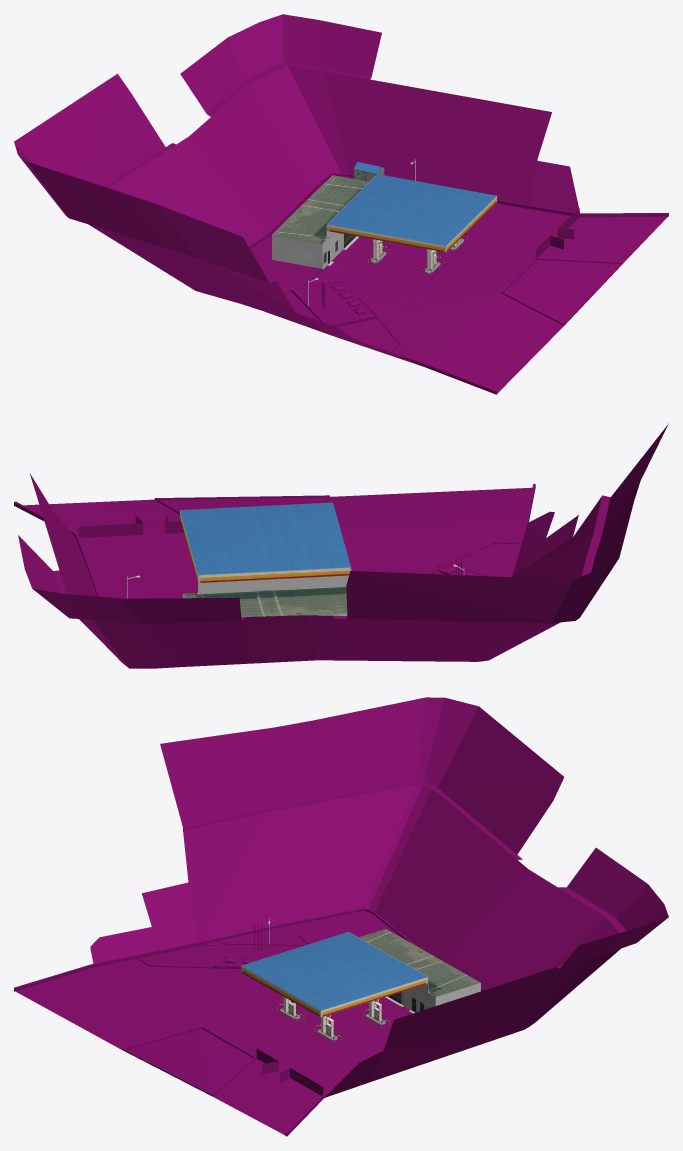
Rendered from modle1.obj.
3 renders of one model, top to bottom at view 1: azimuth 30°, elevation 25°; view 2: azimuth 150°, elevation 25°; view 3: azimuth 270°, elevation 25°, orthographic. The views are drawn at different scales.
Visible parts, largest first — view 1: dantazijyz_HBLKHG_DM001, dantazijyz_HBLKHG_JZ001; view 2: dantazijyz_HBLKHG_DM001, dantazijyz_HBLKHG_JZ001; view 3: dantazijyz_HBLKHG_DM001, dantazijyz_HBLKHG_JZ001.
Part boxes in pixels (bbox=[...]): dantazijyz_HBLKHG_DM001: bbox=[14, 14, 668, 394]; dantazijyz_HBLKHG_JZ001: bbox=[271, 174, 497, 274]; dantazijyz_HBLKHG_DM001: bbox=[14, 423, 668, 668]; dantazijyz_HBLKHG_JZ001: bbox=[180, 502, 351, 617]; dantazijyz_HBLKHG_DM001: bbox=[14, 697, 668, 1136]; dantazijyz_HBLKHG_JZ001: bbox=[241, 929, 480, 1042].
Size of the model in its own units: 98.77 by 25.1 by 94.57.
